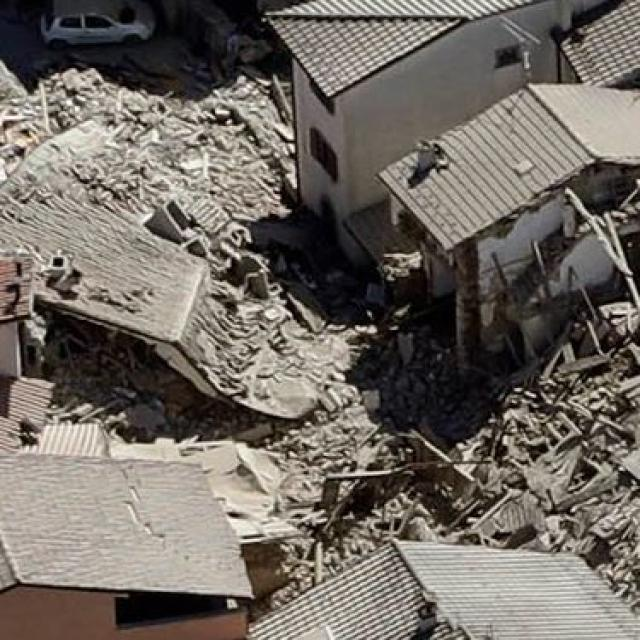collapsed_building: (0, 88, 288, 456), (326, 95, 619, 436)
